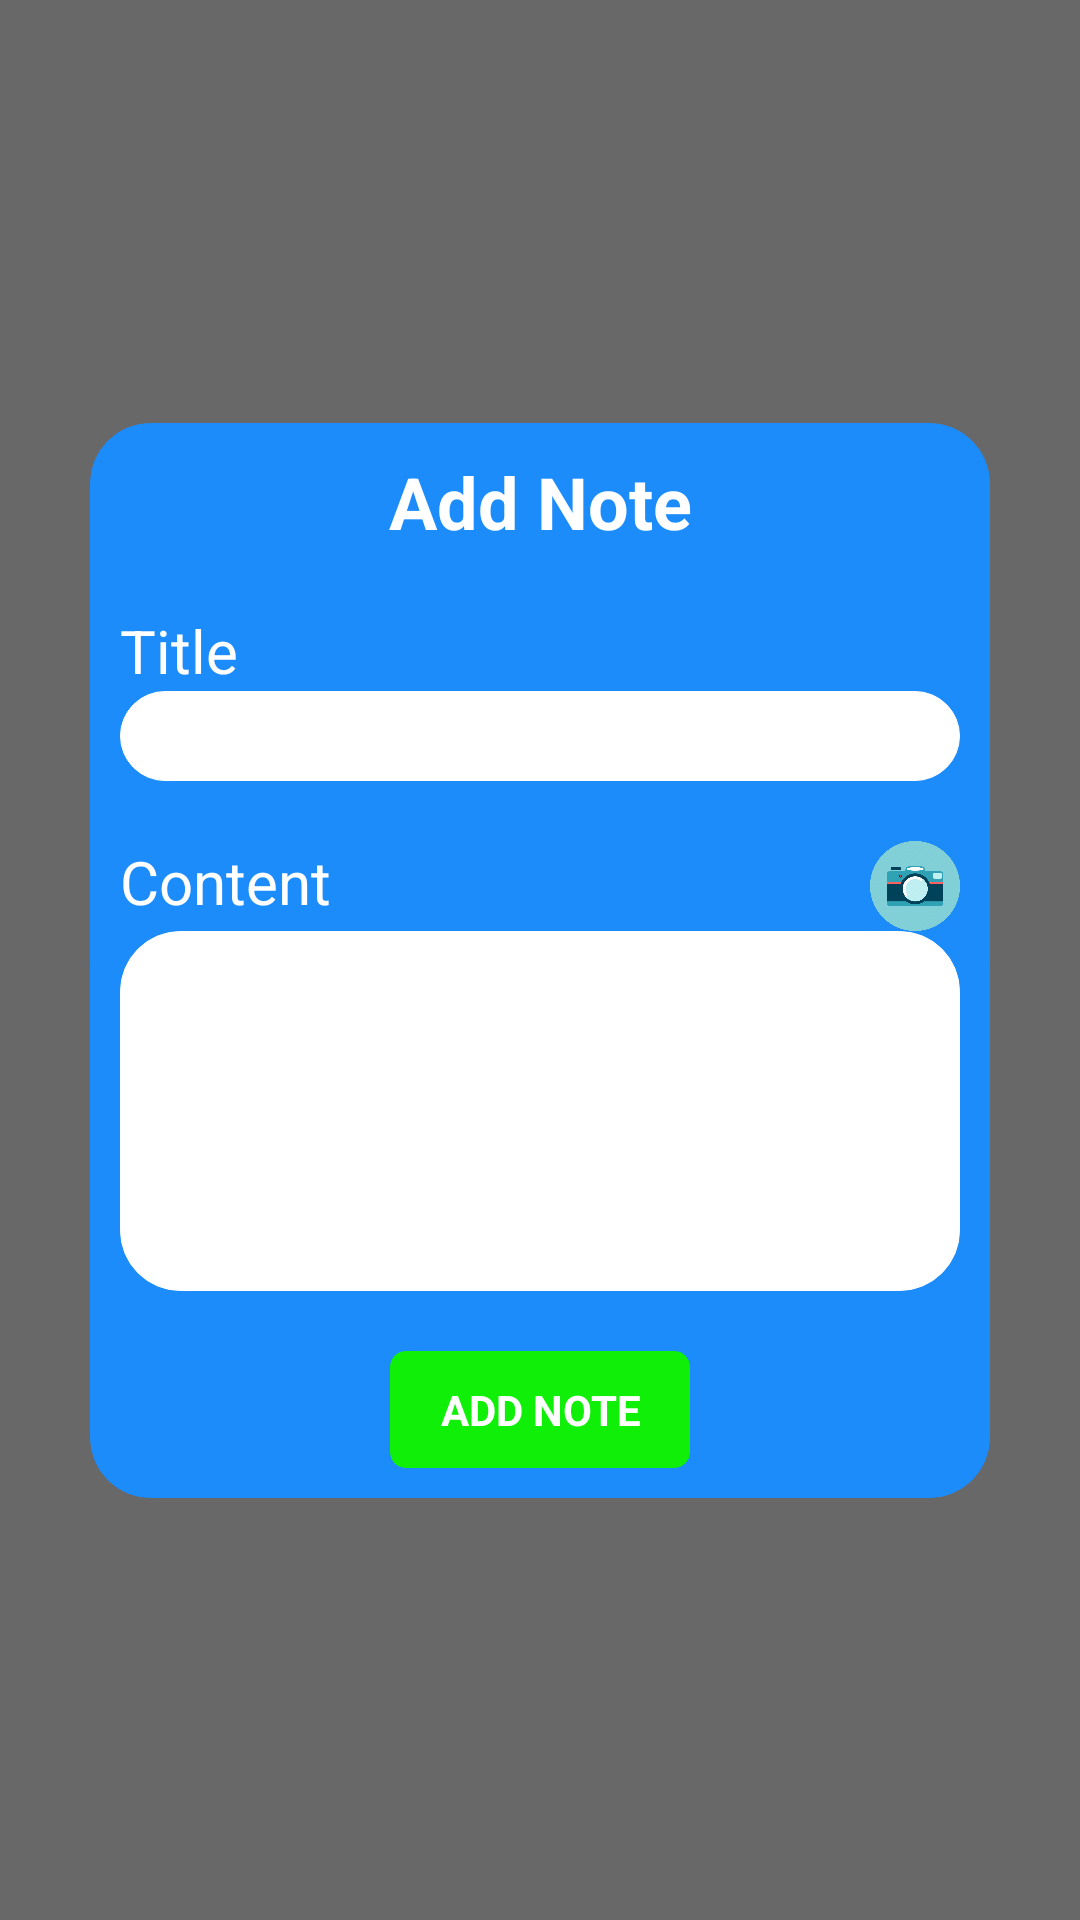

Screen size 1080x1920. Icon name, then its center in pixels as point (x, y):
camera: point (915, 886)
